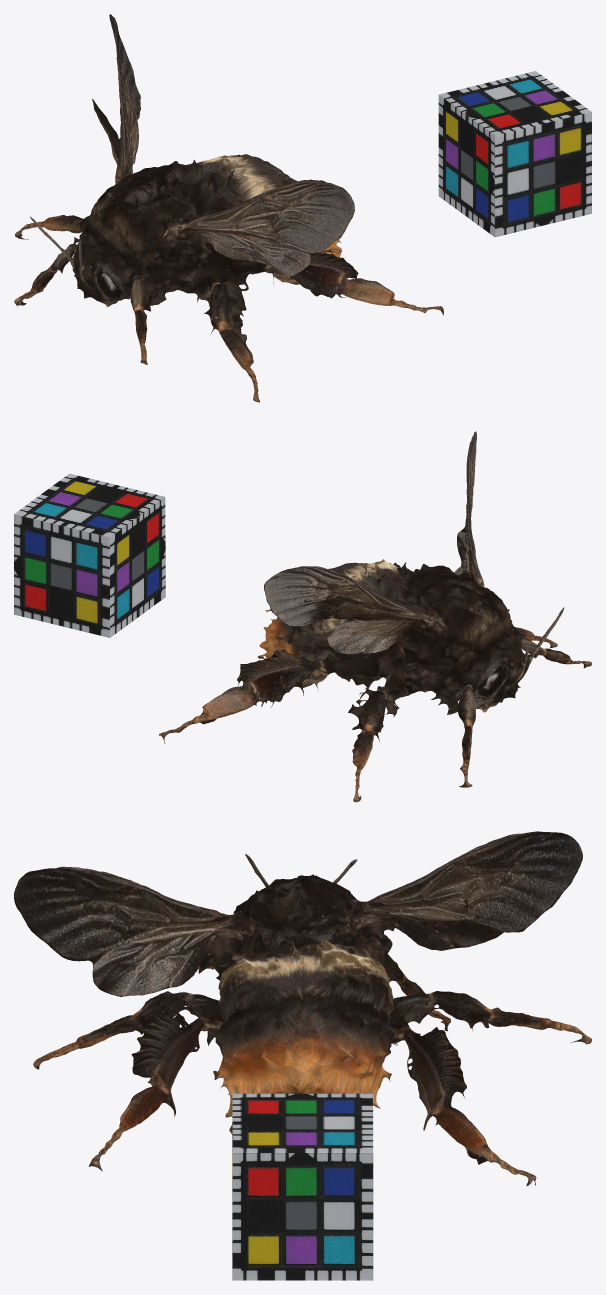
File: bumblebee.glb
3 views of the same model, one above another, from view 1: azimuth 30°, elevation 25°; view 2: azimuth 150°, elevation 25°; view 3: azimuth 270°, elevation 25° (orthographic). The views are drawn at different scales.
Visible parts, largest first — view 1: Object_6, Object_4; view 2: Object_6, Object_4; view 3: Object_6, Object_4.
Boxes of the visible parts, x1,y1,x2,y2 form: Object_6: (14,14,443,402); Object_4: (438,71,591,237); Object_6: (159,431,591,802); Object_4: (14,473,165,637); Object_6: (14,831,591,1186); Object_4: (232,1093,373,1280).
Bounding box in the file's own units: 0.0527 × 0.0218 × 0.0411.
Materials: 2 (2 with a texture image).
